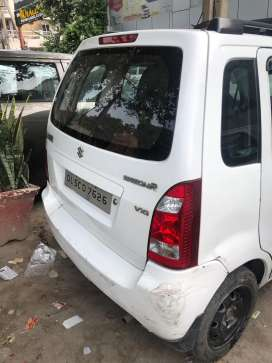nameplate: (63, 167, 112, 224)
